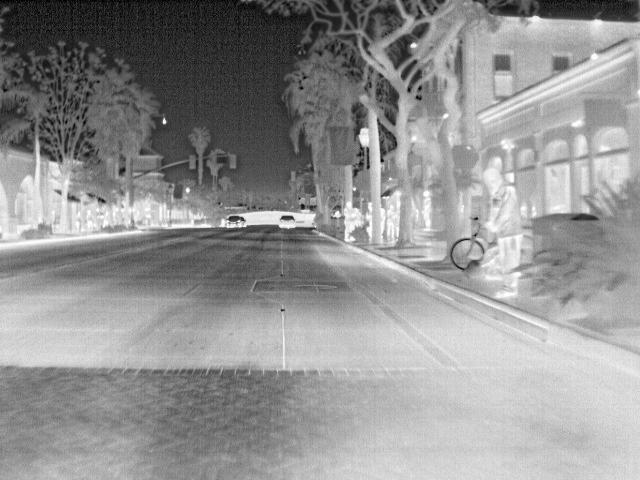car: (221, 214, 245, 230), (277, 214, 297, 230)
person: (479, 168, 523, 300), (340, 200, 359, 241), (418, 190, 434, 234), (383, 203, 396, 241), (363, 201, 375, 241), (73, 208, 85, 234), (84, 208, 97, 228)
